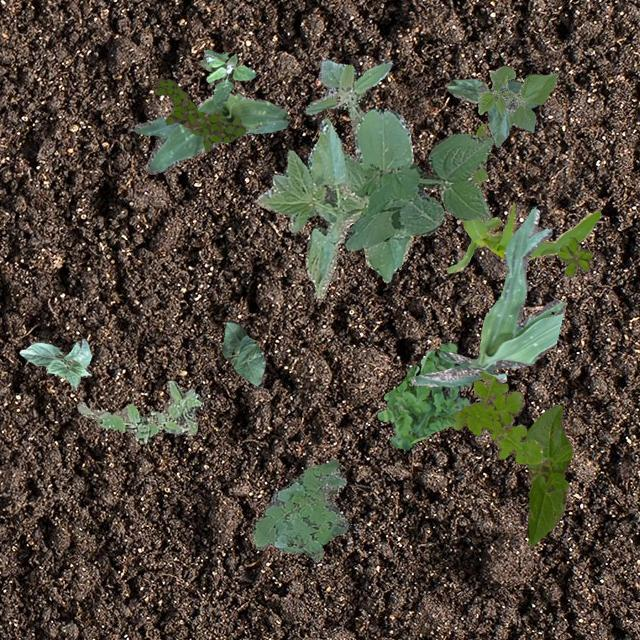crop: (256, 106, 412, 298), (410, 206, 564, 386), (446, 121, 600, 272), (130, 92, 288, 174), (477, 64, 558, 146), (524, 404, 570, 544), (18, 338, 90, 388), (220, 318, 264, 386), (446, 78, 536, 108)
weed: (342, 132, 492, 250), (376, 341, 470, 448), (252, 458, 348, 560), (452, 372, 544, 462), (76, 380, 202, 442), (150, 77, 244, 152), (304, 58, 390, 134), (200, 48, 254, 108), (556, 237, 592, 276)
